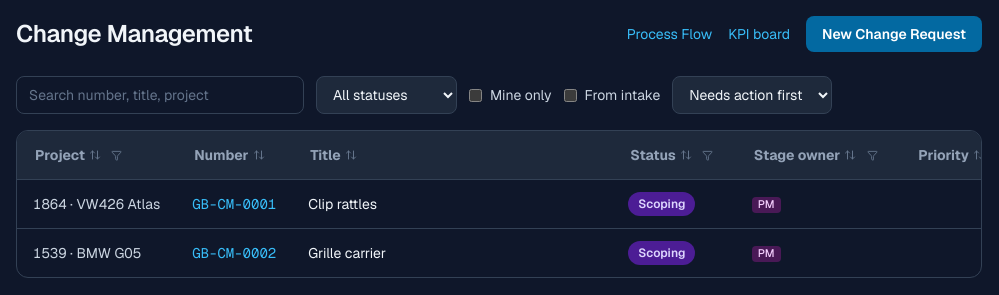
Scenario: ChangesPage list polish (spec §16) › searches number, title and project
Expected: the link "GB-CM-0002" is shown, [192,244,276,262]
In the search field with test id "changes-search": (160, 95) [16,76,304,114], type "grille"
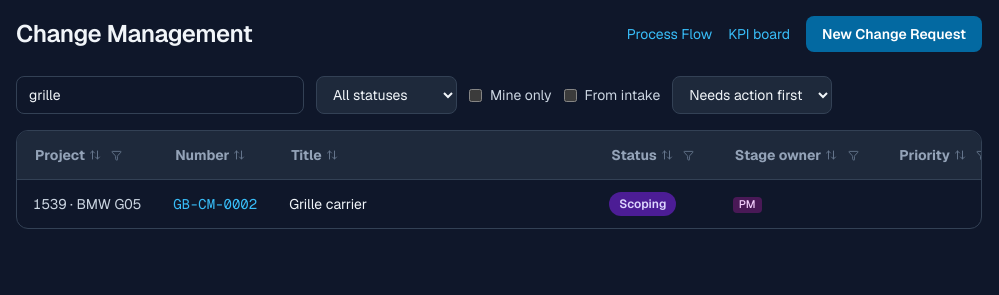
Expected: the link "GB-CM-0002" is shown, [173,195,257,213]
Replace the text in the search field with test id "changes-search" with "vw426": (160, 95) [16,76,304,114]
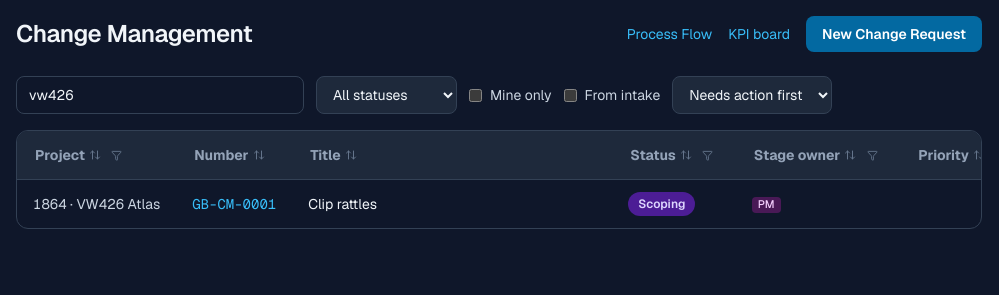
Result: the link "GB-CM-0001" is shown at [192,195,276,213]
Result: the link "GB-CM-0002" is gone
Replace the text in the search field with test id "changes-search" with "0002": (160, 95) [16,76,304,114]
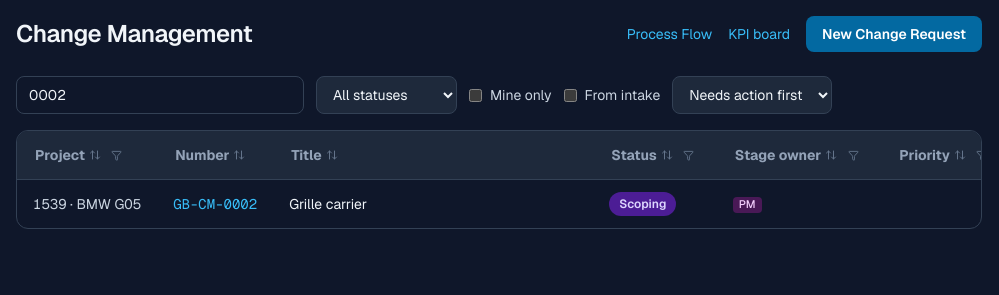
Result: the link "GB-CM-0002" is shown at [173,195,257,213]
Replace the text in the search field with test id "changes-search" with "nothing like it": (160, 95) [16,76,304,114]
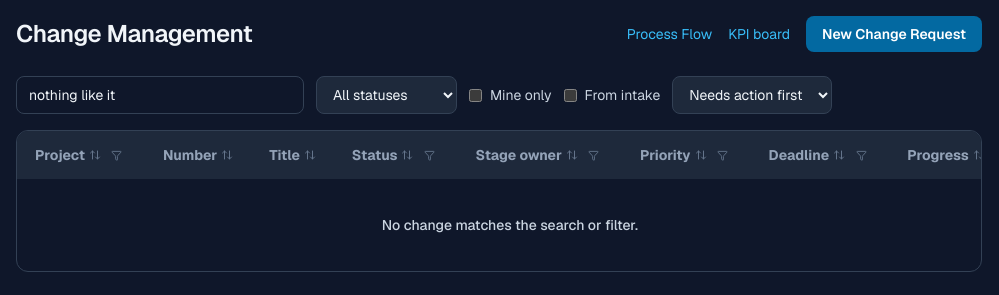
Result: the text "No change matches the search or filter." is shown at [382,215,638,235]
